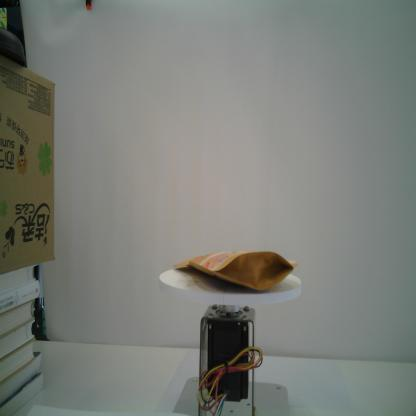Dried Fruit: (172, 249, 298, 292)
